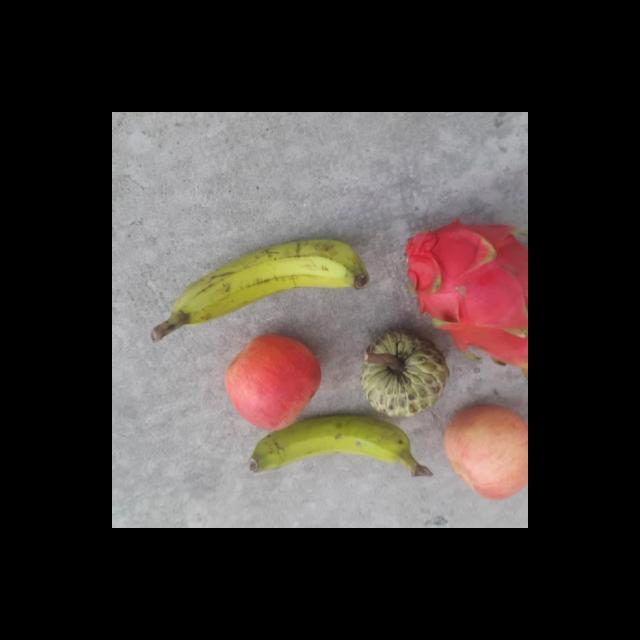Sakya fruit: (360, 330, 450, 418)
apple: (224, 336, 322, 432), (443, 406, 528, 500)
banana: (148, 236, 371, 343), (248, 415, 437, 479)
pitaya: (404, 223, 528, 366)
